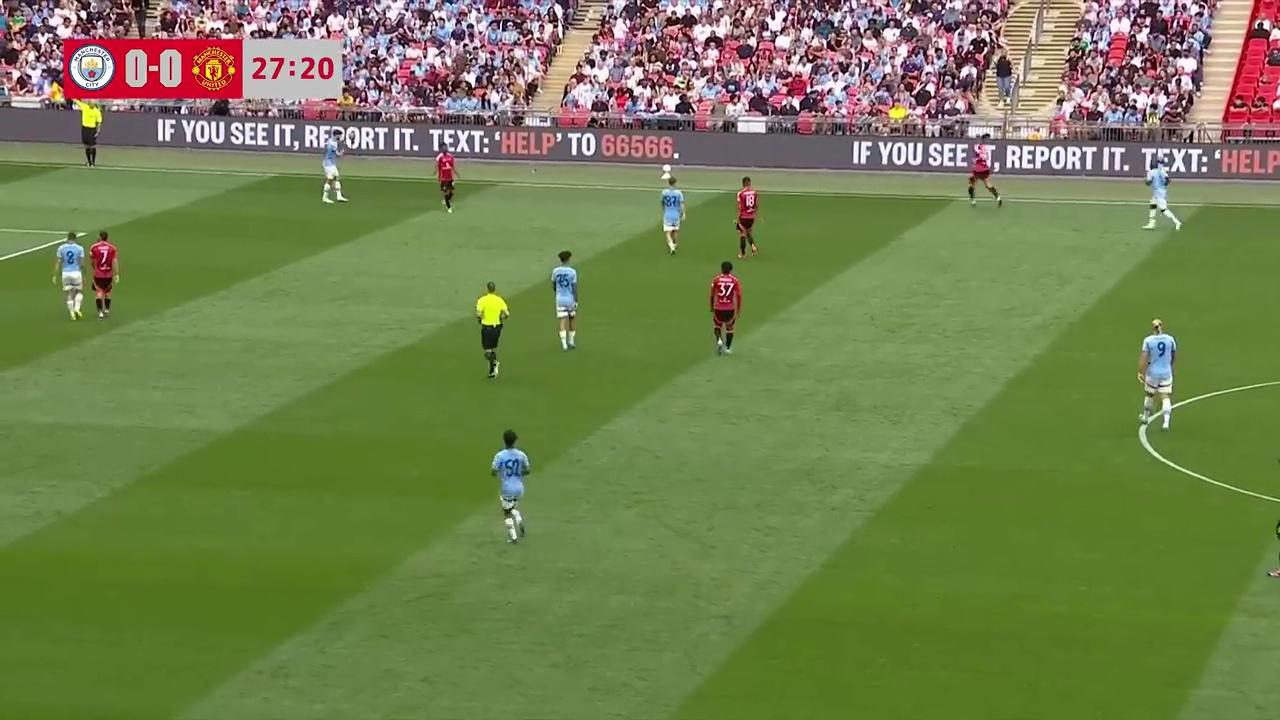player: (491, 430, 530, 543), (1140, 318, 1177, 416), (52, 232, 87, 320), (709, 261, 741, 354), (550, 251, 579, 351), (87, 230, 119, 319), (1143, 163, 1181, 230), (966, 143, 1002, 207), (659, 178, 686, 254), (735, 178, 758, 258), (321, 144, 347, 203), (435, 149, 458, 213), (1266, 502, 1280, 589)
referee: (475, 280, 509, 379), (80, 101, 102, 168)
